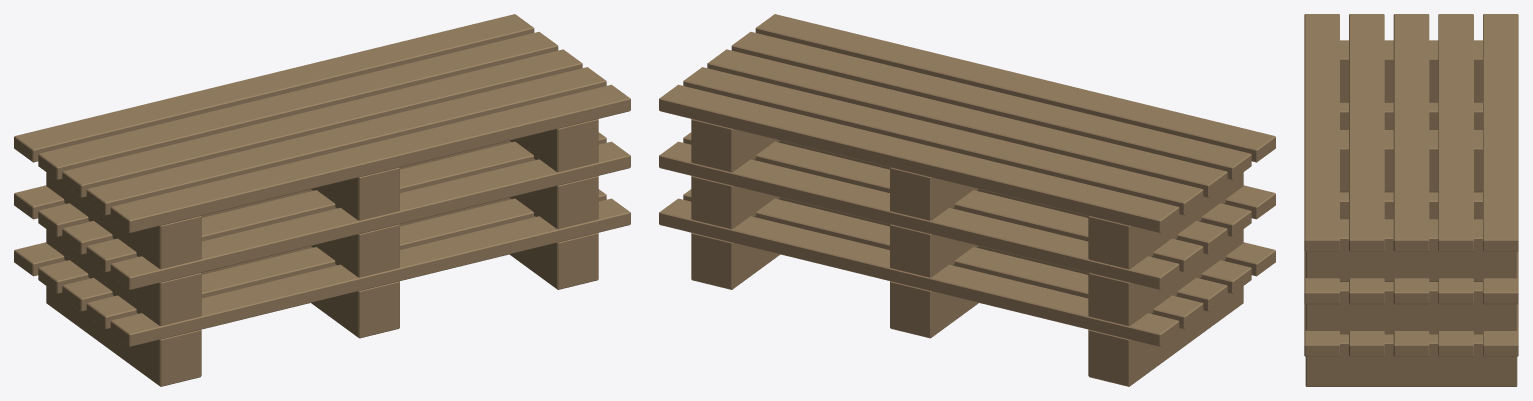
Rendered from pallet.glb.
3 views of the same model, side by side, from view 1: azimuth 30°, elevation 25°; view 2: azimuth 150°, elevation 25°; view 3: azimuth 270°, elevation 25° (orthographic). The views are drawn at different scales.
Parts seen in each view (by area): view 1: pallet; view 2: pallet; view 3: pallet.
Boxes of the visible parts, x1,y1,x2,y2 form: pallet: (14, 14, 630, 386); pallet: (659, 14, 1275, 386); pallet: (1304, 14, 1518, 386).
Bounding box in the file's own units: 2.4 × 0.8 × 0.96.
